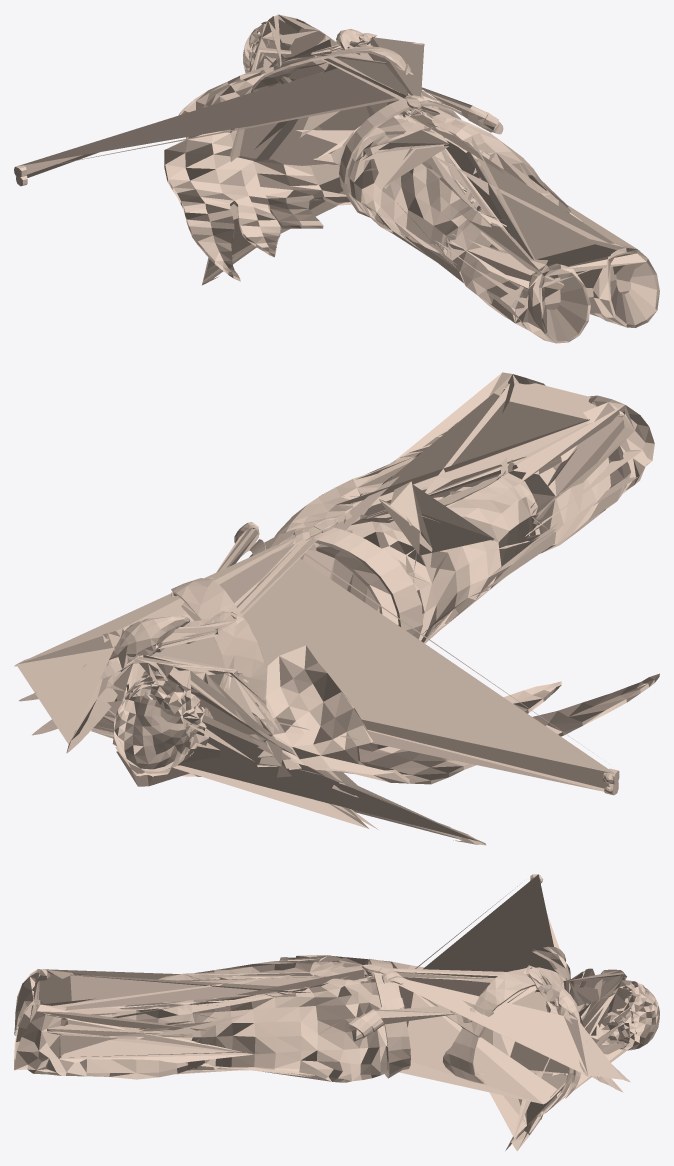
The model's file is scimitar.glb.
3 views of the same model, one above another, from view 1: azimuth 30°, elevation 25°; view 2: azimuth 150°, elevation 25°; view 3: azimuth 270°, elevation 25° (orthographic). The views are drawn at different scales.
Parts seen in each view (by area): view 1: Scimitar; view 2: Scimitar; view 3: Scimitar.
Part boxes in pixels (x1,y1,x2,y2): Scimitar: [14, 14, 659, 343]; Scimitar: [14, 372, 659, 845]; Scimitar: [14, 874, 659, 1151].
Size of the model in its own units: 1.32 by 0.5045 by 1.8.
